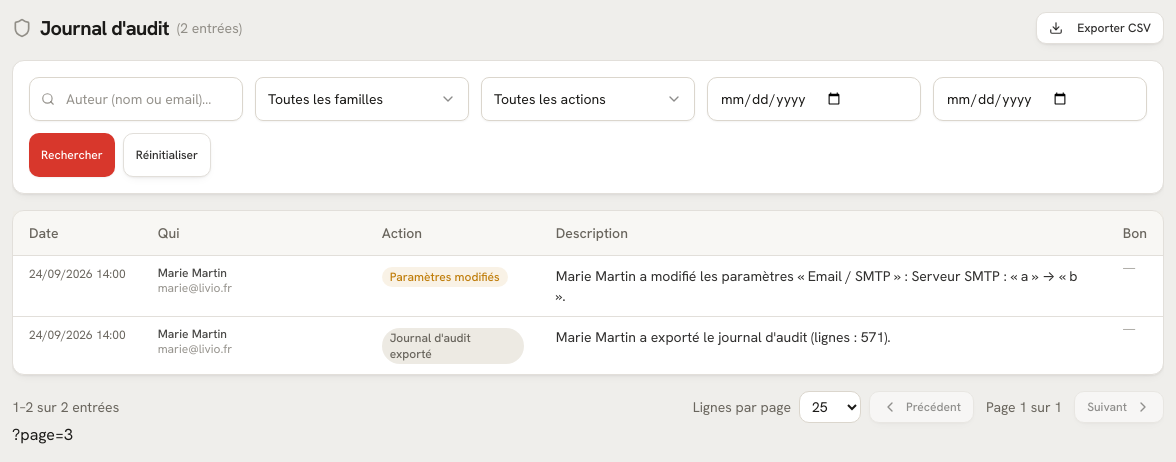
Test case: AuditLogsPage › écrit un filtre dans l’adresse et revient à la première page
Expected: the table named "Journal d'audit" is shown, [13,211,1163,374]
Type "jean" into the field named "Auteur de l'action (nom ou email)" at (136, 99), box [29,77,243,121]
Then press Enter
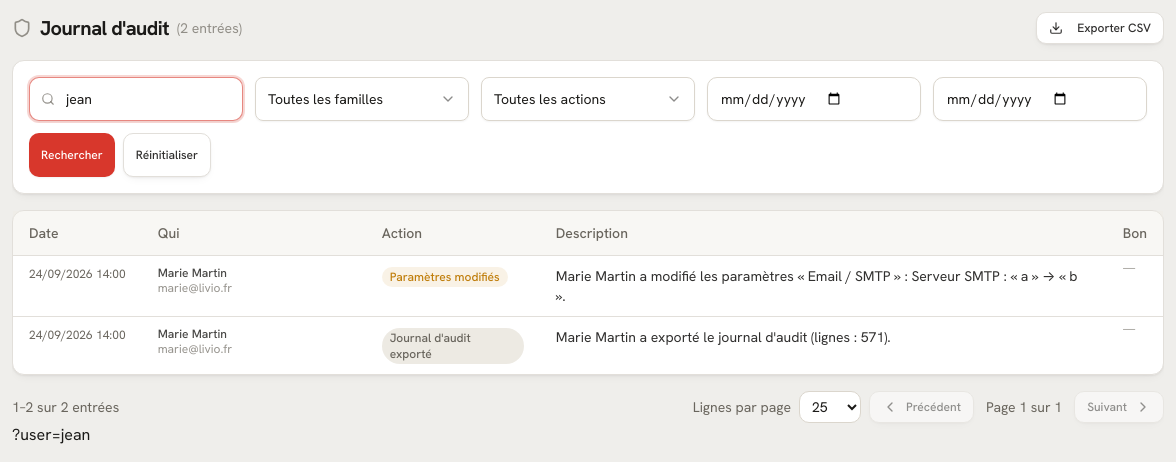
Expected: the text with test id "location" reads "?user=jean", [12,424,90,445]
Expected: the text with test id "location" no longer shows "page=", [12,424,90,445]
